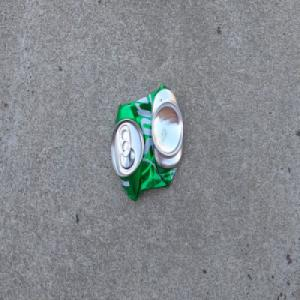SodaCan: (109, 81, 185, 202)
